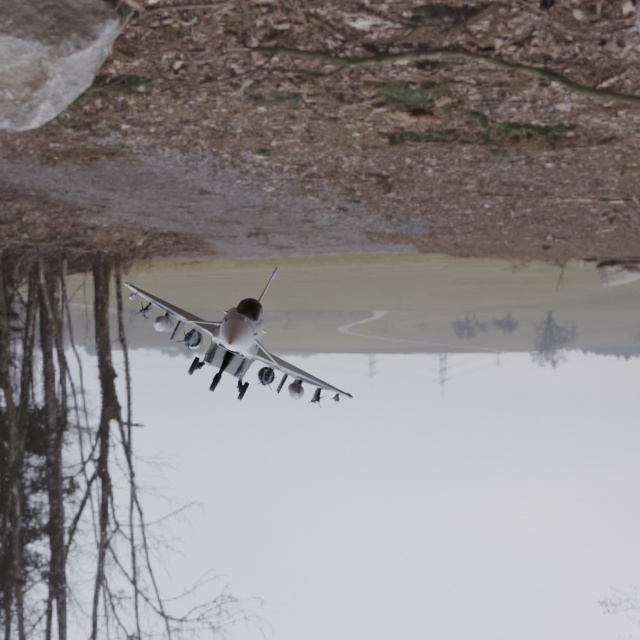eurofighter_typhoon_3d: (49, 158, 438, 477)
